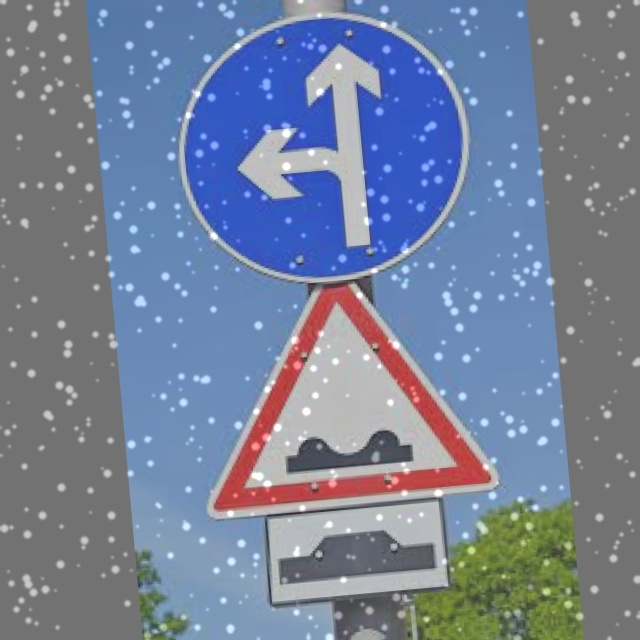Compulsory_Ahead_or_Turn_Left: (159, 5, 495, 296)
